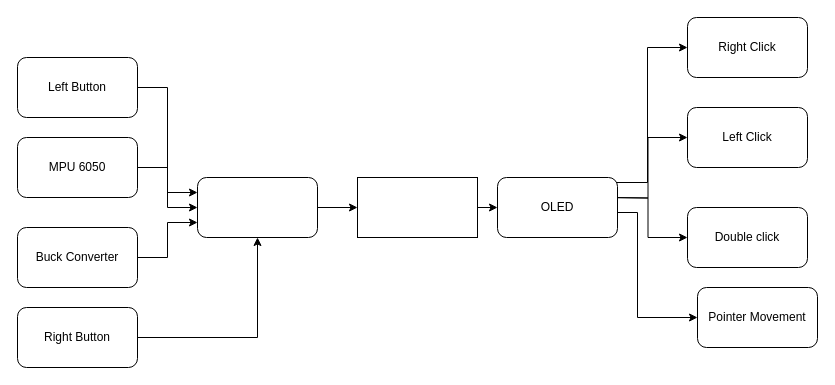
This 835x385 diagram has some shape labels left out. Each missing label, with the centre of its shape:
"Bluetooth HC-05" goes at point (417, 207).
"STM32C104" goes at point (257, 207).
